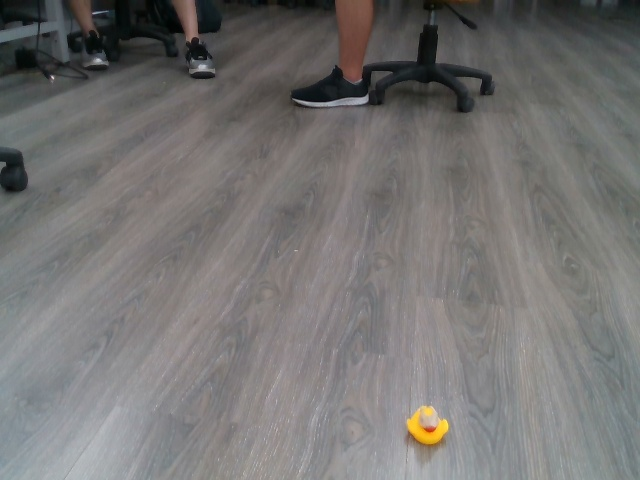duck: (404, 405, 453, 448)
